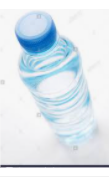Bottle: (14, 12, 100, 158)
